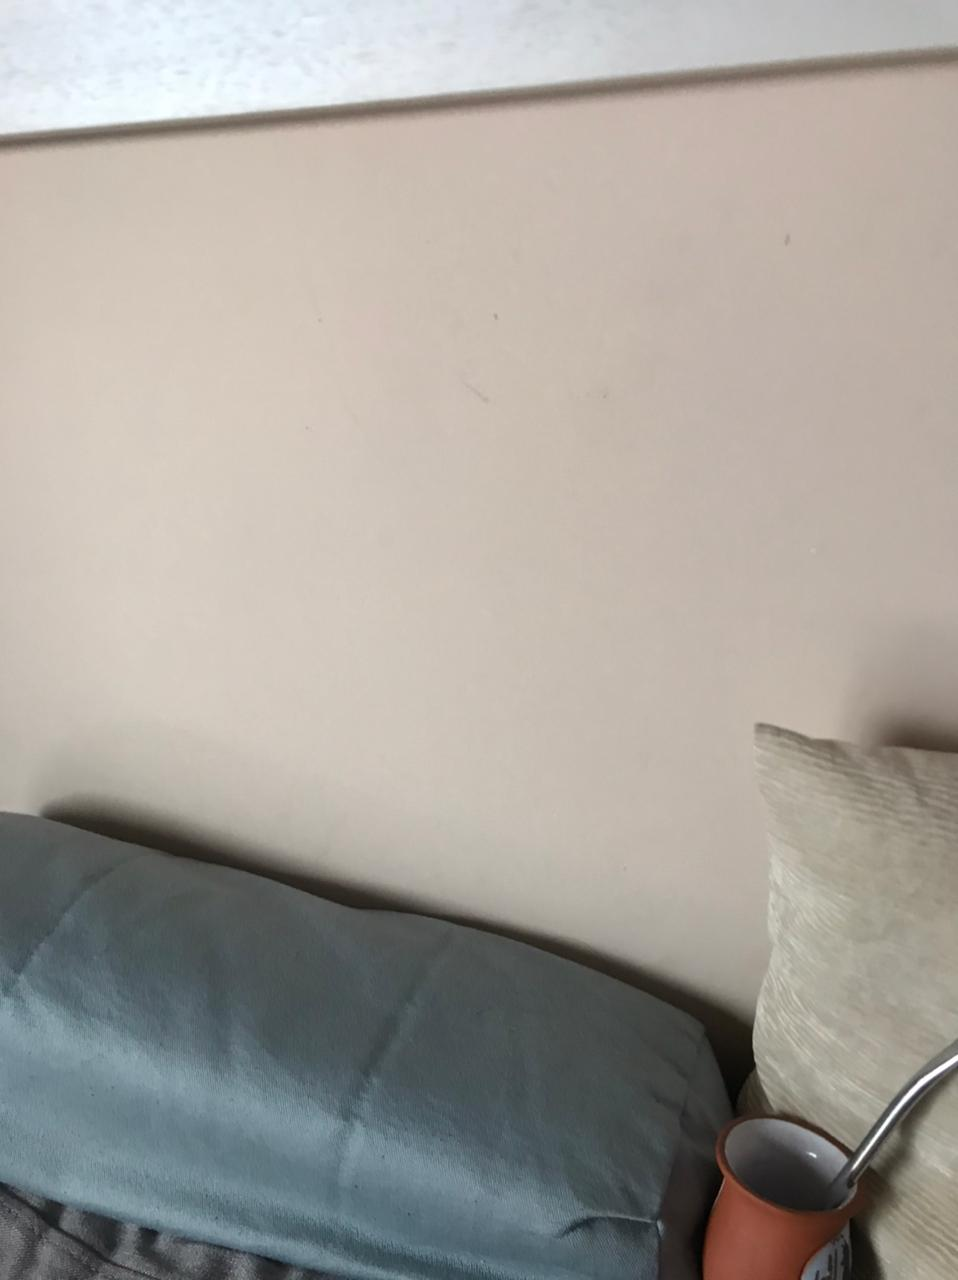mate: (696, 1026, 958, 1280)
